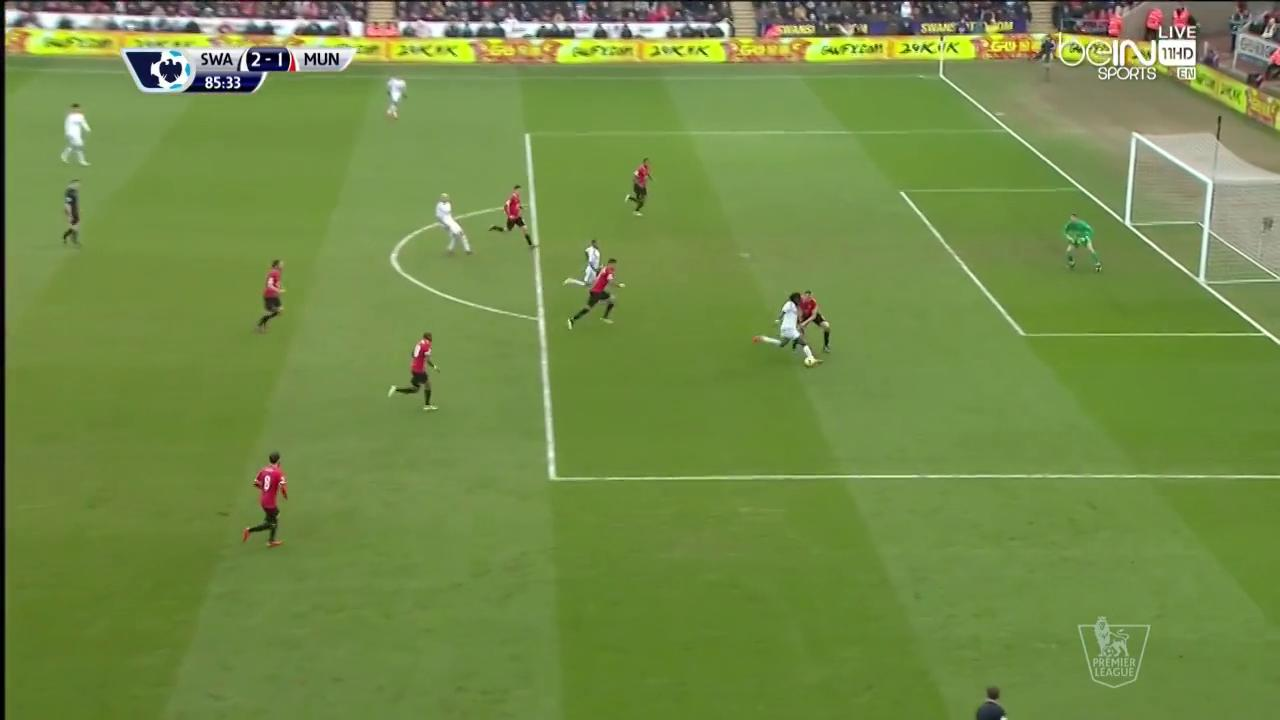football: (804, 357, 815, 368)
